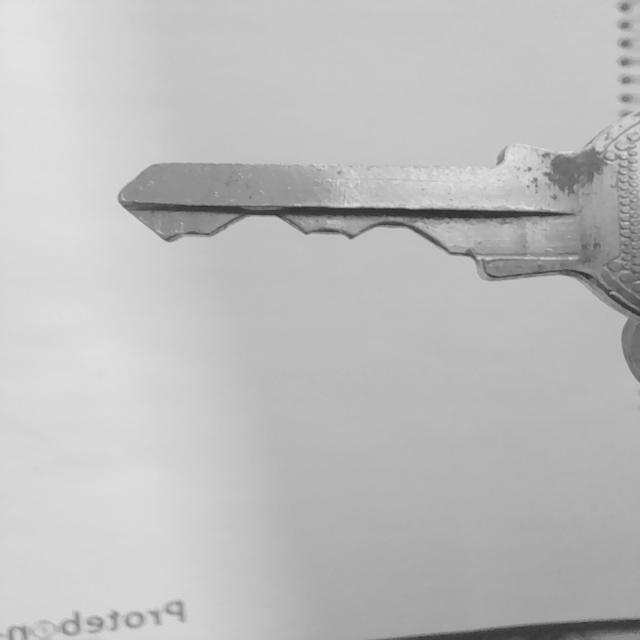KEY: (118, 113, 640, 326)
